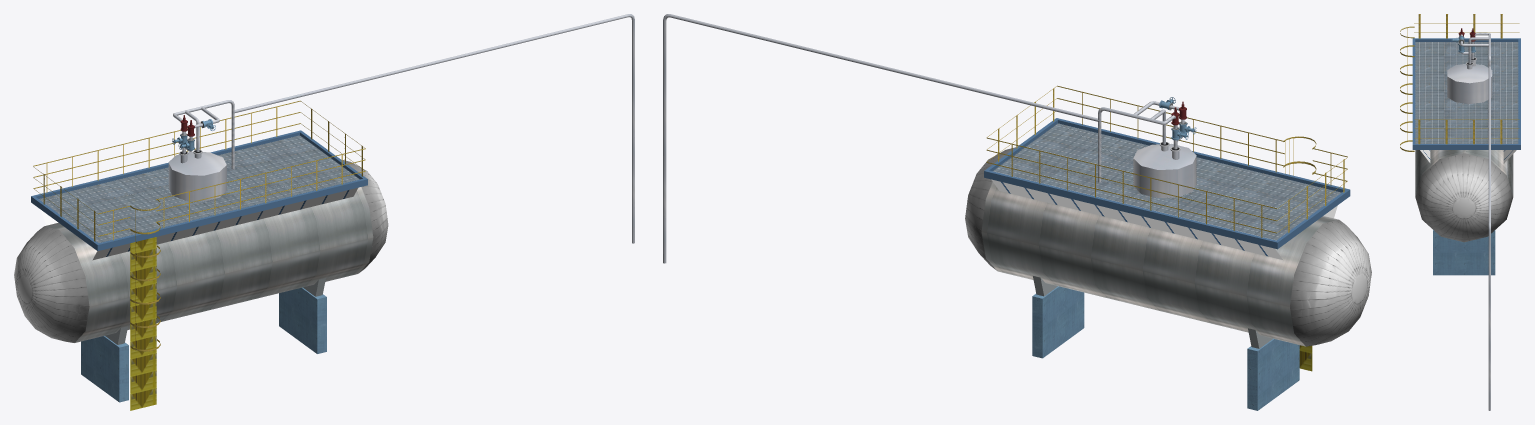
File: Dummy Building 4.FBX
3 renders of one model, left to right at view 1: azimuth 30°, elevation 25°; view 2: azimuth 150°, elevation 25°; view 3: azimuth 270°, elevation 25°, orthographic. The views are drawn at different scales.
Visible parts, largest first — view 1: Dummy Building 4; view 2: Dummy Building 4; view 3: Dummy Building 4.
Part boxes in pixels (x1=…): Dummy Building 4: x1=14, y1=14, x2=634, y2=410; Dummy Building 4: x1=663, y1=14, x2=1371, y2=410; Dummy Building 4: x1=1400, y1=14, x2=1520, y2=410.
Size of the model in its own units: 2144 by 808 by 442.
